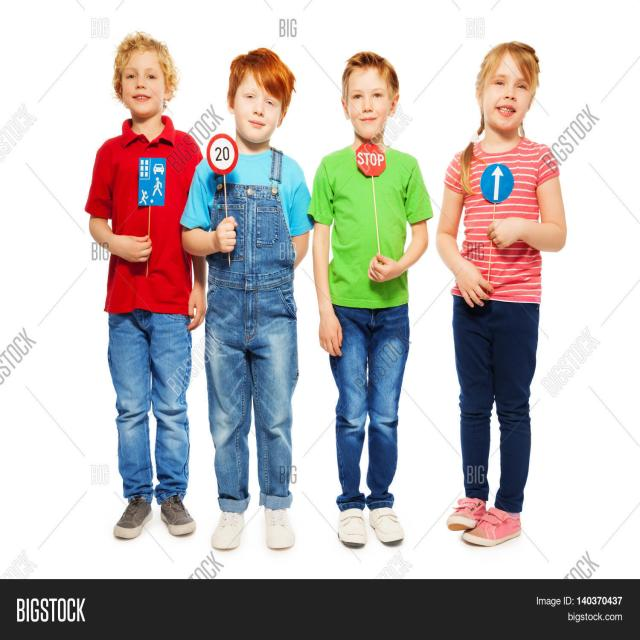child: (178, 41, 312, 557), (178, 40, 312, 556), (301, 36, 435, 552), (434, 32, 568, 548), (80, 30, 208, 549)
